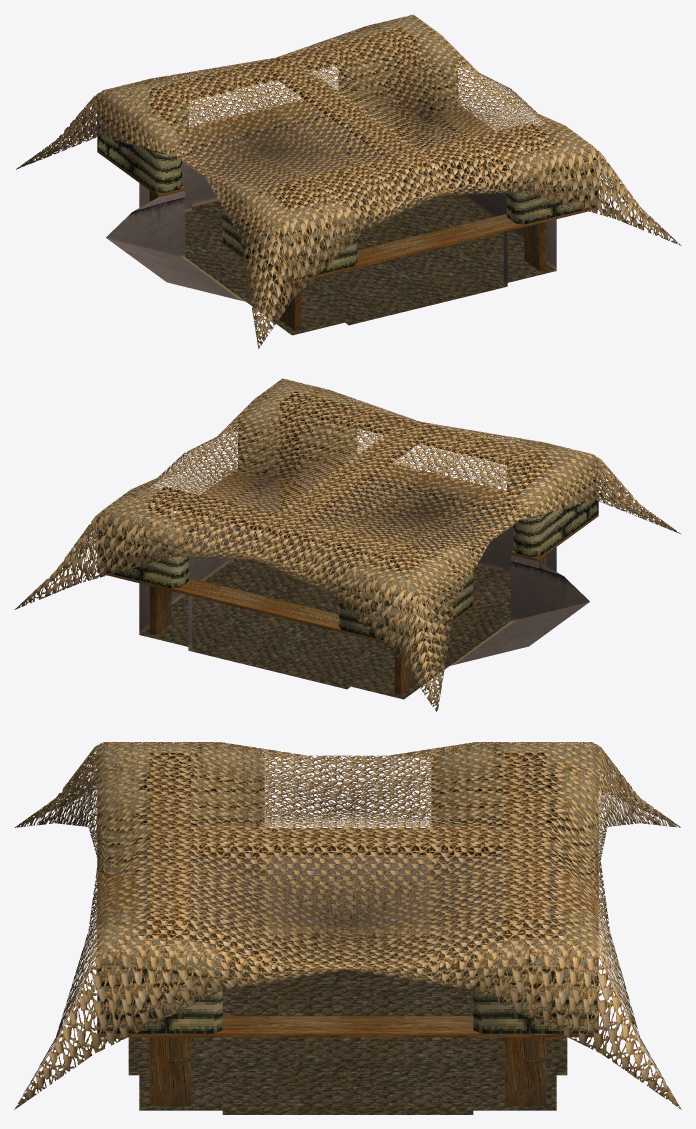
The model's file is M12A_Bunker.glb.
3 renders of one model, top to bottom at view 1: azimuth 30°, elevation 25°; view 2: azimuth 150°, elevation 25°; view 3: azimuth 270°, elevation 25°, orthographic. The views are drawn at different scales.
Parts seen in each view (by area): view 1: M12A_BUNKER; view 2: M12A_BUNKER; view 3: M12A_BUNKER.
Boxes of the visible parts, x1,y1,x2,y2 form: M12A_BUNKER: (16, 14, 681, 348); M12A_BUNKER: (14, 378, 681, 711); M12A_BUNKER: (14, 742, 681, 1114).
Bounding box in the file's own units: 8 × 2.46 × 8.
7 materials, 7 textured.
